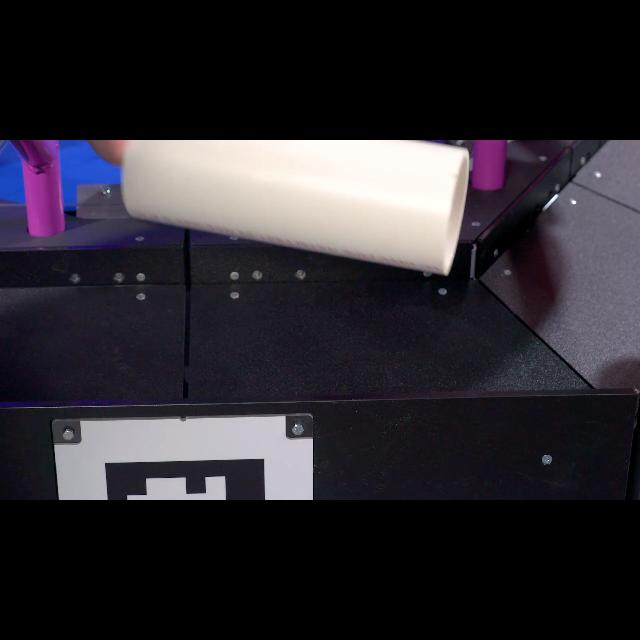CORAL: (120, 140, 470, 278)
